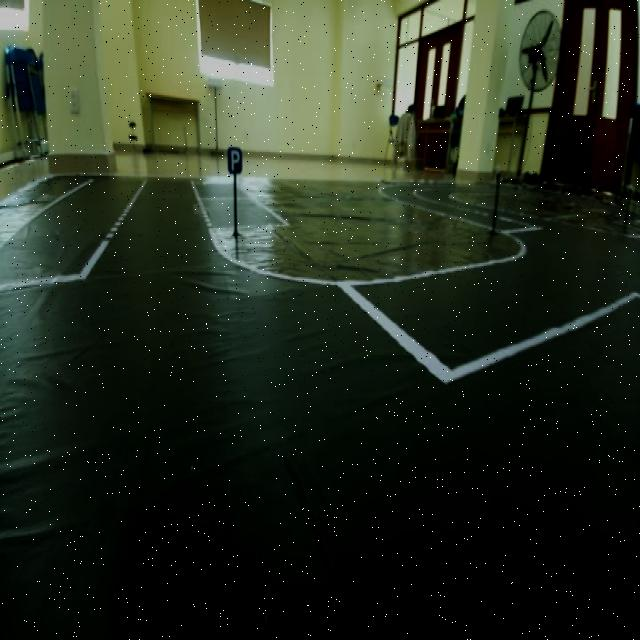parking: (222, 140, 244, 174)
